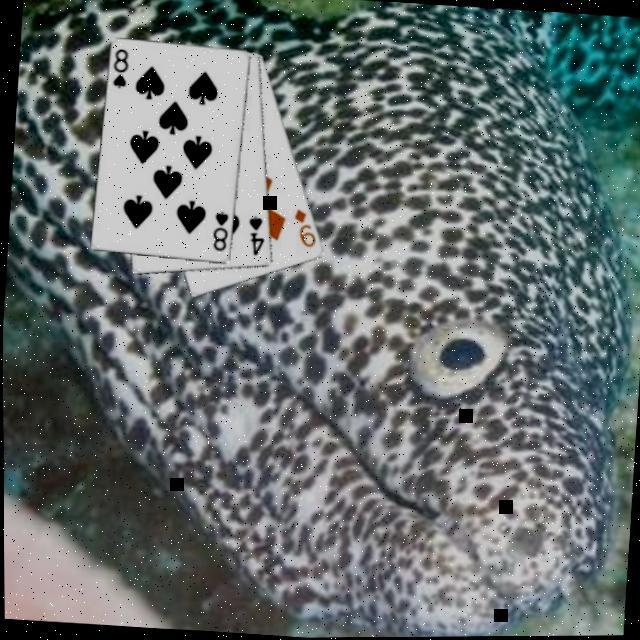4S: (243, 212, 268, 257)
8S: (209, 207, 233, 254), (109, 44, 132, 91)
9D: (290, 204, 321, 250)
